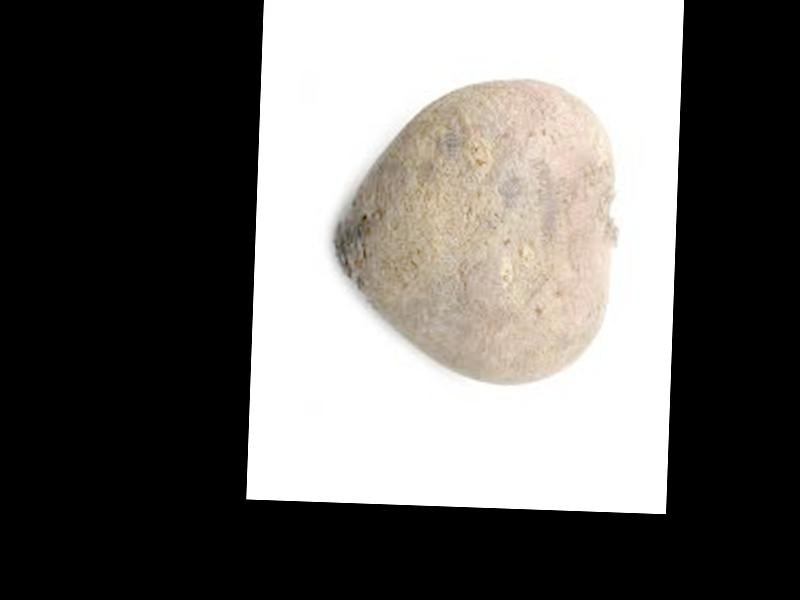Beet: (330, 71, 620, 390)
